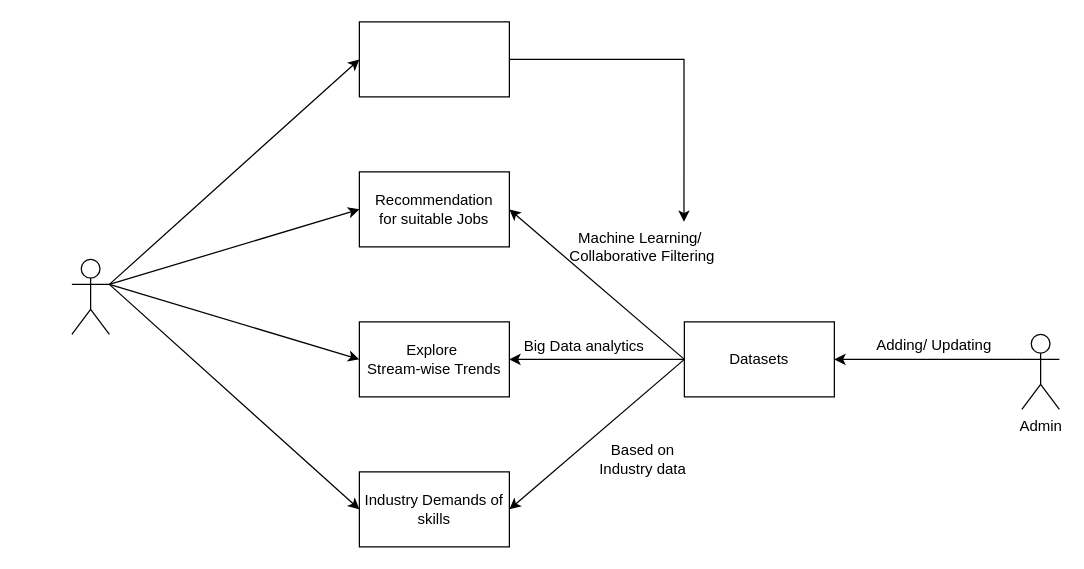
Some shapes in this 1084 by 569 pixel diagram are drawn without their labels. Here are the shapes that lost their labels. From the top down, the centre of each, then its label:
At (433,59): "Skill assessment & Certifications".
At (90,296): "Student/ Job seeker/ Free lancer".
